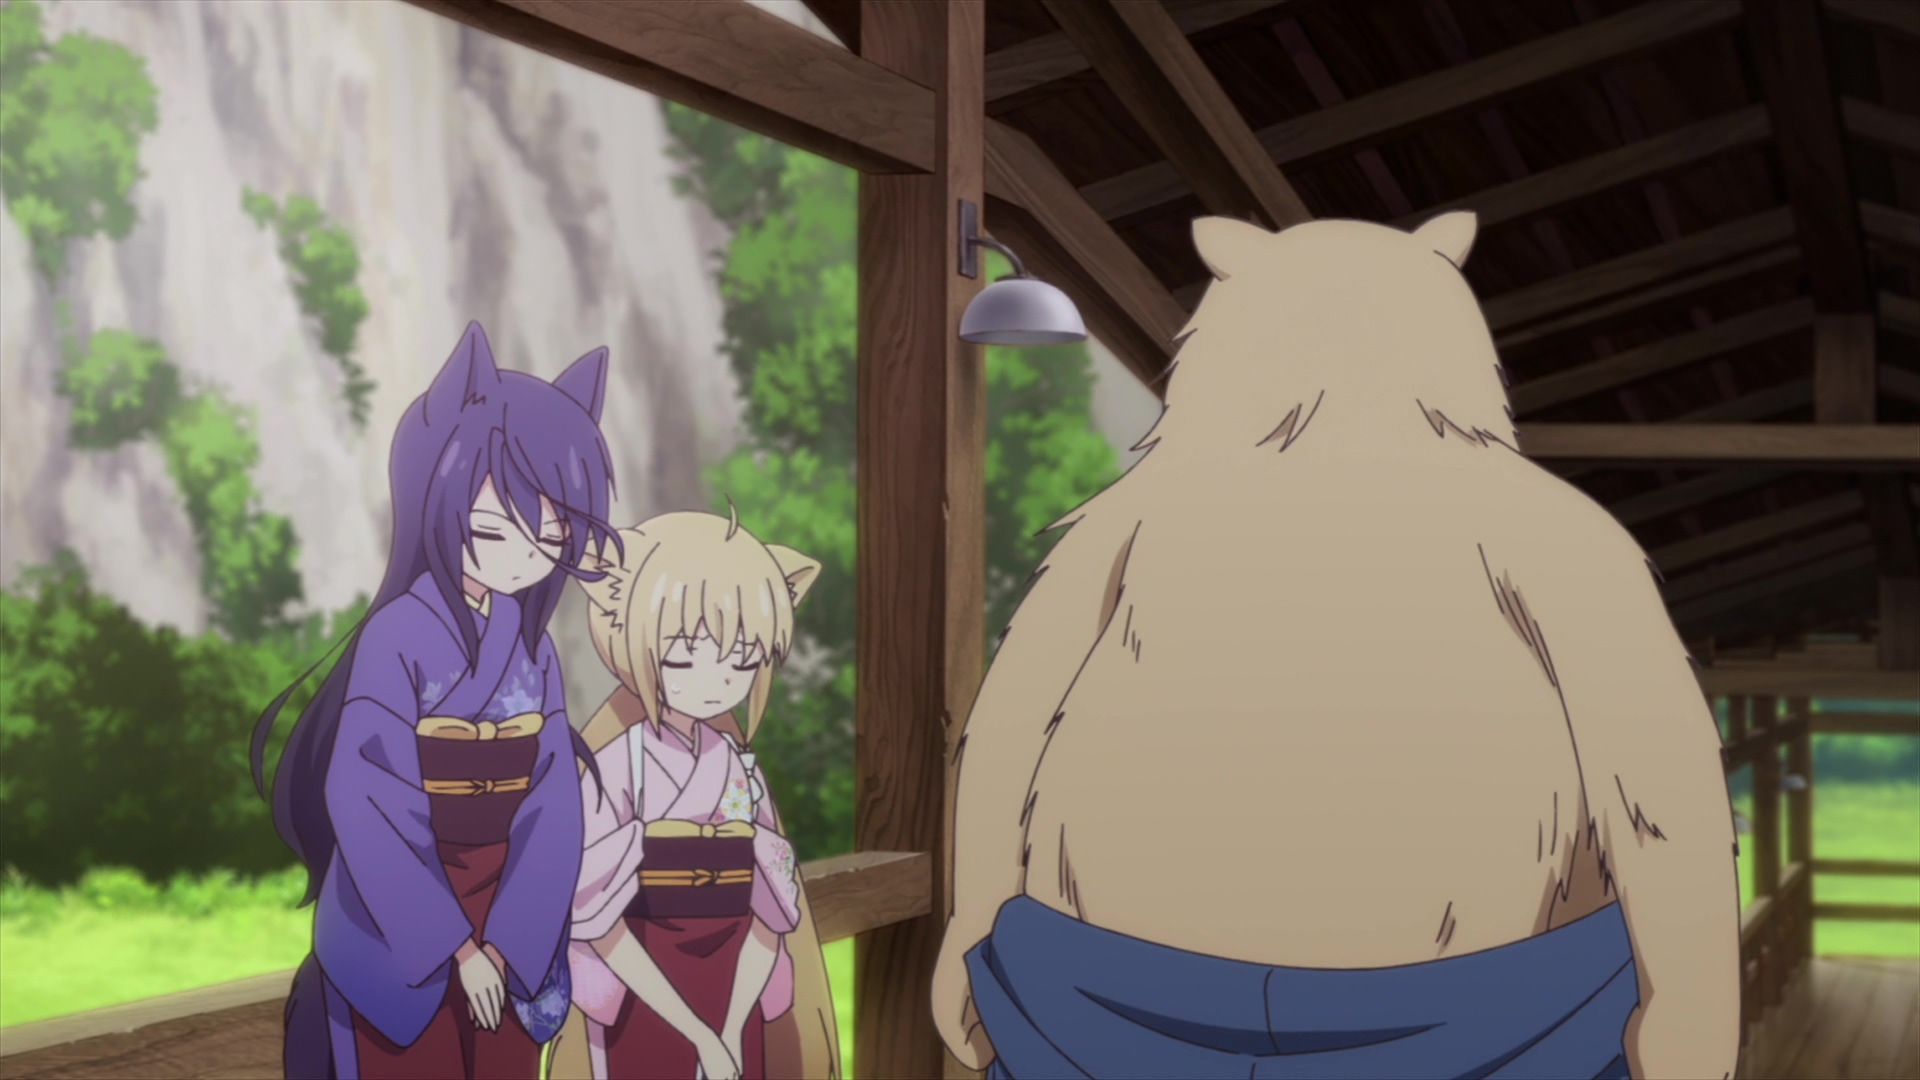柚: (546, 495, 840, 1080)
皋: (252, 320, 618, 1080)
药店老板: (930, 208, 1743, 1080)
